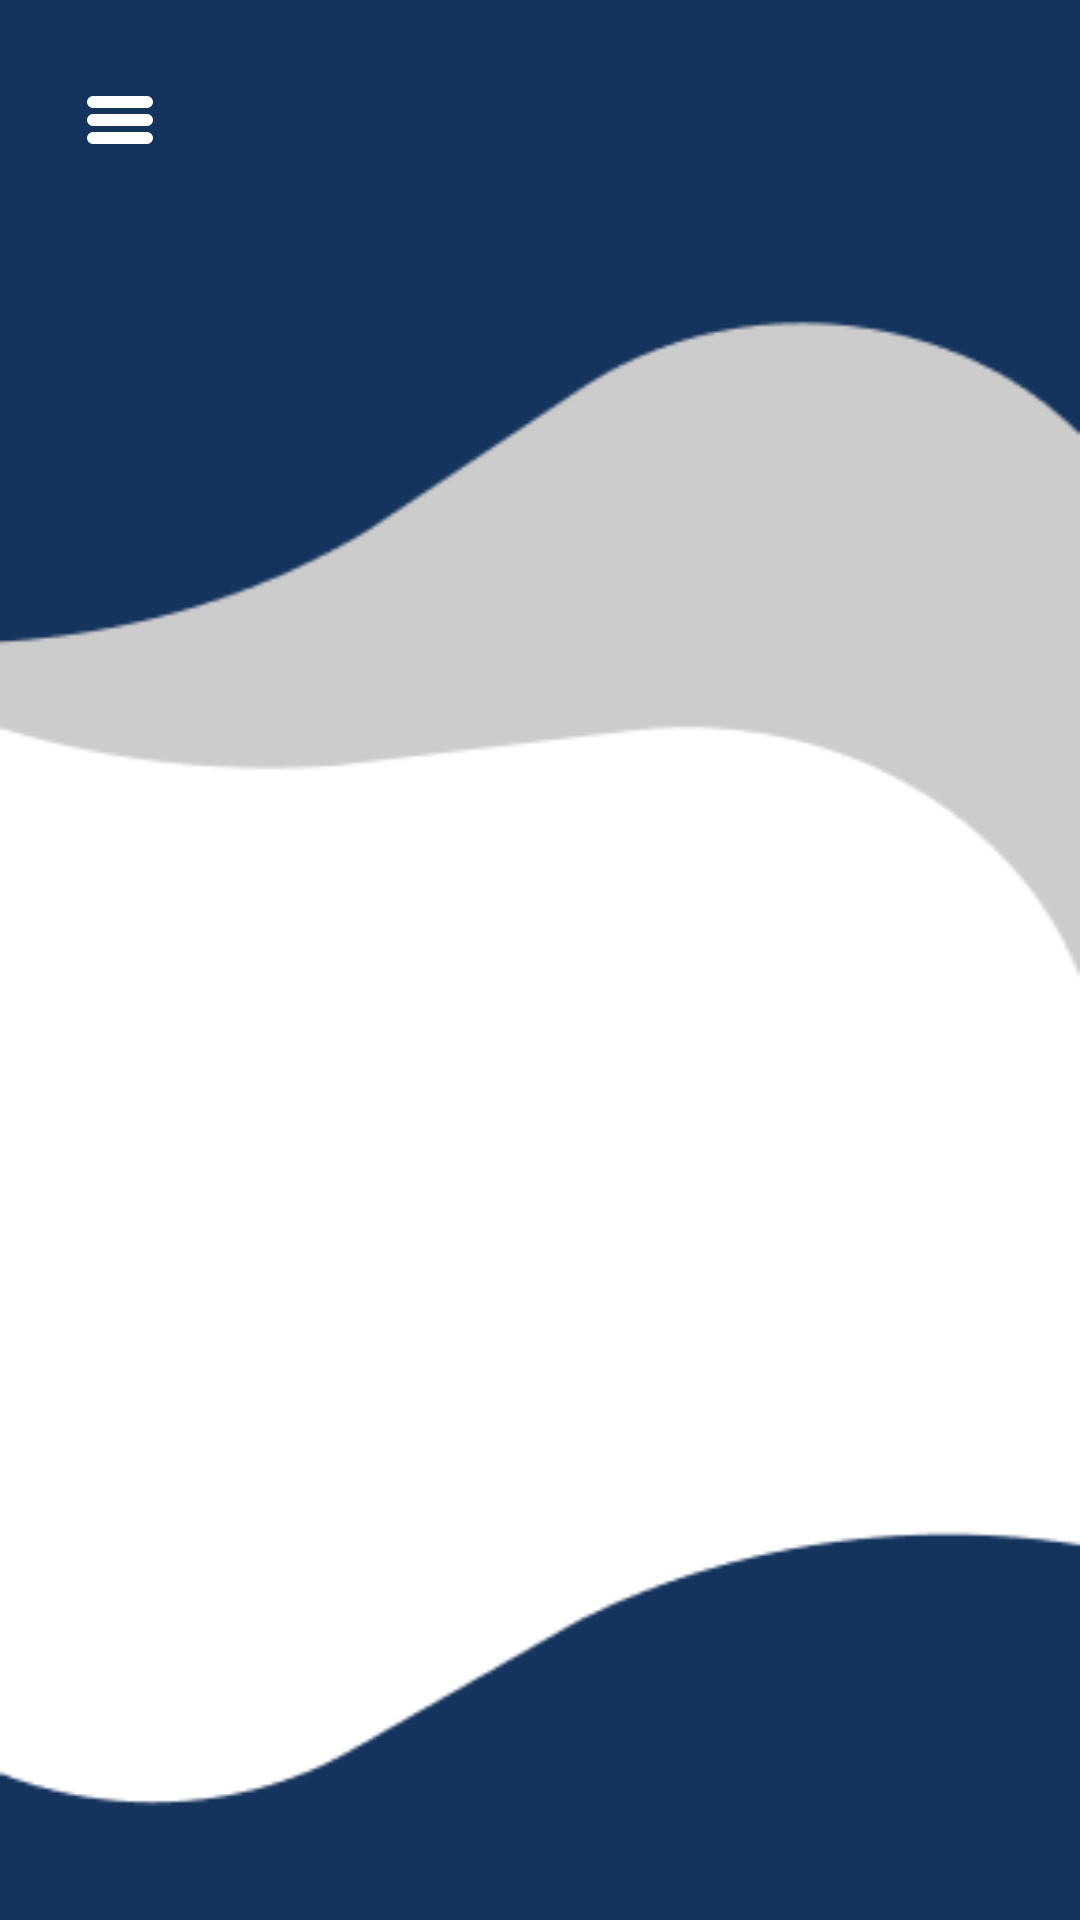

Locate icon controls on the screen. Image size 1080px×1920px, boxes as (x1, y1, x2, y2).
Lecturer Menu: (87, 96, 153, 144)
